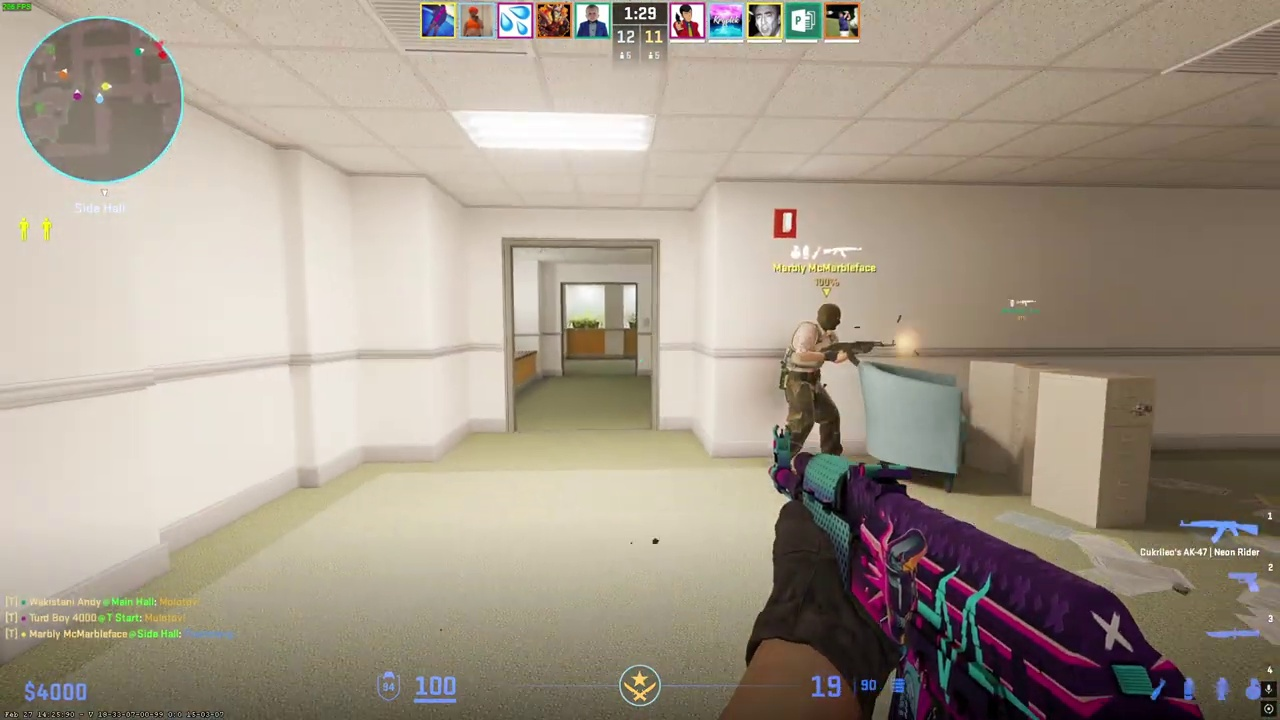Terrorist: (777, 301, 851, 469)
